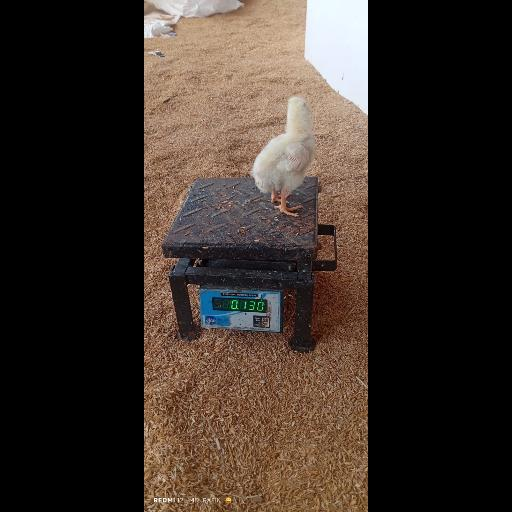chick: (252, 97, 316, 215)
